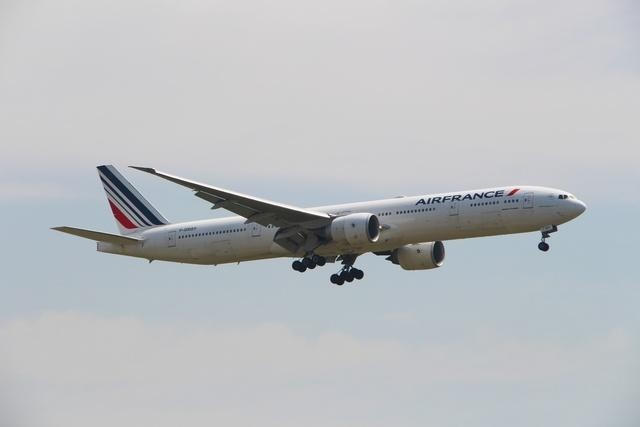airplane: (51, 154, 598, 285)
